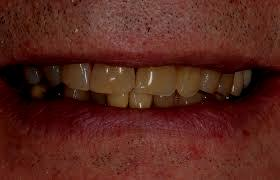Discoloration: (95, 62, 137, 96), (139, 60, 176, 96), (177, 66, 201, 97), (43, 64, 64, 85), (23, 65, 42, 86)
